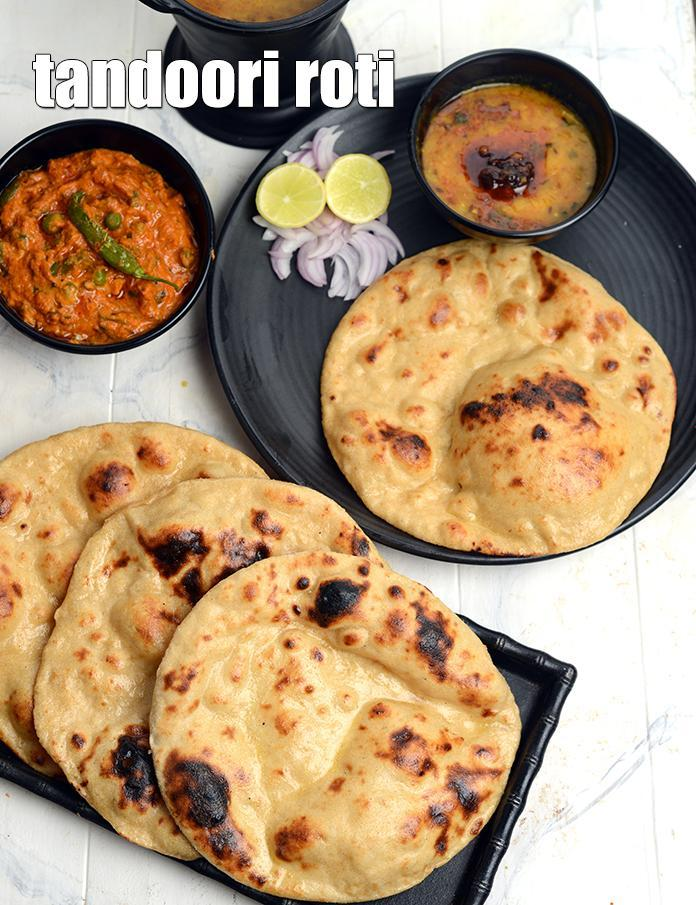roti: (0, 421, 520, 902), (315, 244, 674, 565)
